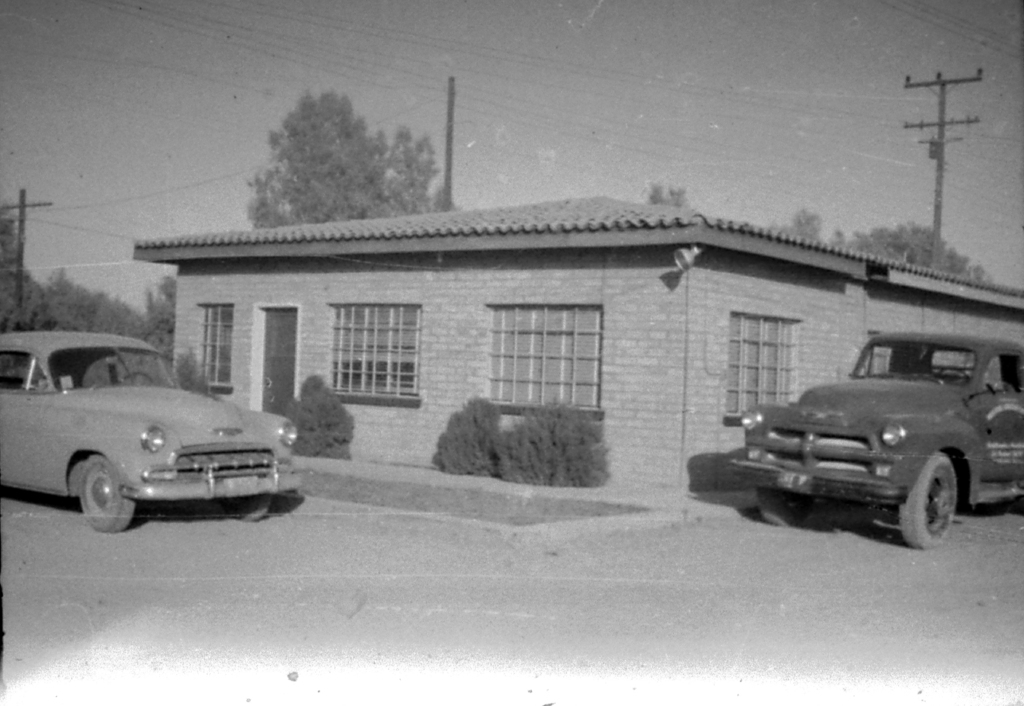cars: (716, 331, 1022, 551), (8, 330, 295, 536)
